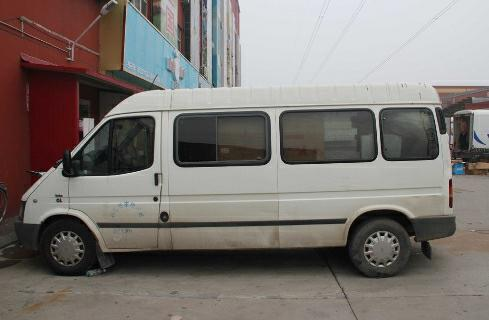福特-经典全顺: (13, 80, 459, 280)
